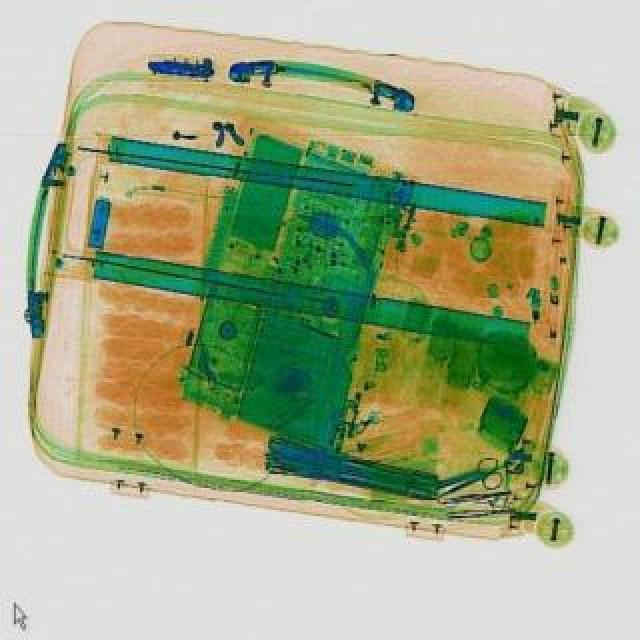pliers: (428, 452, 510, 508)
